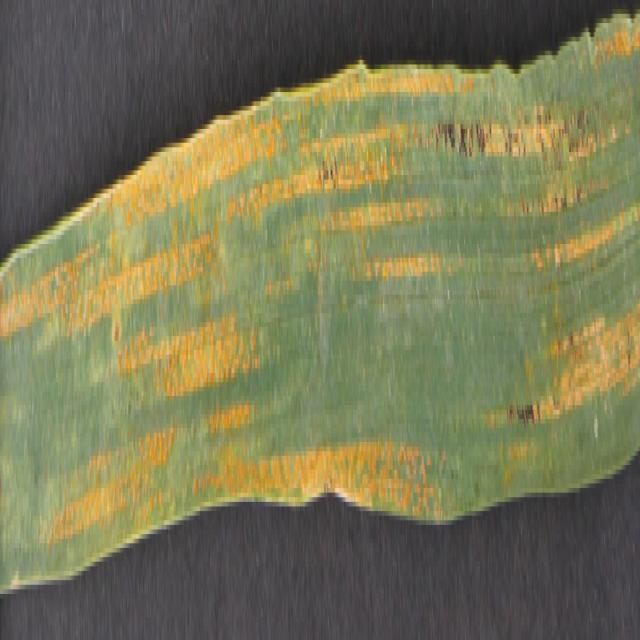leaf rust: (1, 5, 637, 552)
